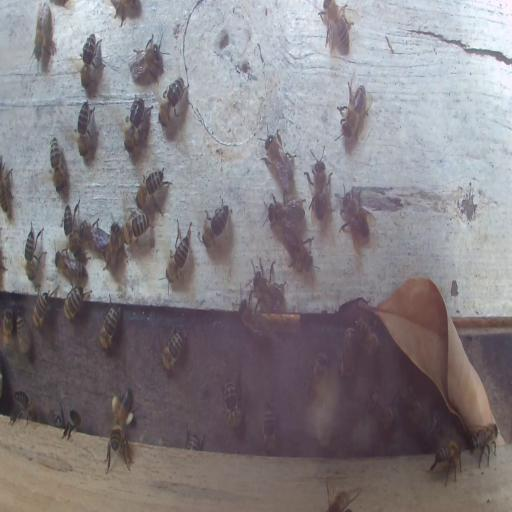bee: (333, 75, 374, 151), (336, 182, 374, 252), (305, 142, 331, 224), (246, 259, 286, 309), (128, 33, 167, 83), (428, 436, 464, 488), (165, 218, 193, 284), (318, 0, 352, 54), (136, 166, 172, 216), (32, 1, 56, 72), (263, 126, 292, 184), (470, 420, 503, 470), (237, 296, 269, 346), (80, 32, 104, 95), (74, 98, 96, 166), (282, 227, 313, 275), (158, 78, 190, 124), (202, 199, 232, 248), (307, 352, 331, 412), (123, 94, 146, 156), (23, 222, 46, 282), (105, 424, 133, 472), (355, 316, 382, 362), (99, 294, 121, 350), (160, 326, 186, 372), (367, 390, 394, 434), (62, 204, 82, 258), (400, 382, 423, 428), (341, 327, 359, 385), (80, 218, 108, 254), (222, 378, 241, 431), (54, 251, 86, 281), (49, 136, 65, 194), (270, 198, 302, 226), (111, 388, 133, 428), (63, 283, 86, 321), (125, 211, 152, 243), (10, 391, 36, 424), (0, 154, 14, 214), (32, 289, 52, 331), (107, 220, 121, 272), (16, 308, 30, 358), (113, 0, 143, 23), (263, 401, 276, 454), (2, 306, 15, 359), (62, 408, 82, 439), (185, 430, 204, 451)
